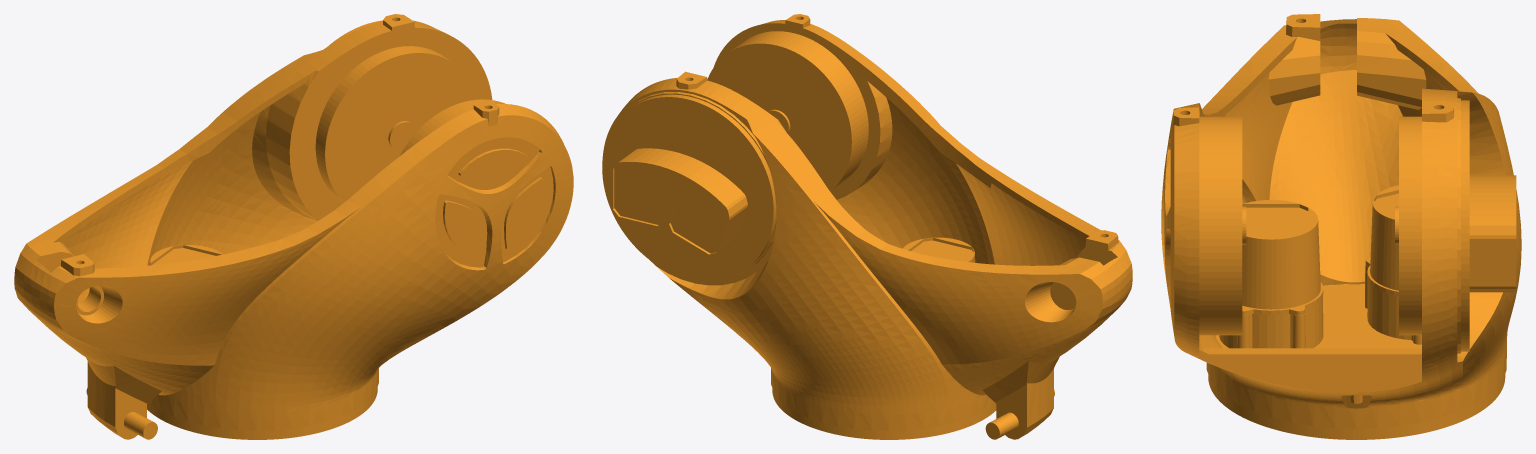
The model's file is KukaTitanLink1.dae.
3 renders of one model, left to right at view 1: azimuth 30°, elevation 25°; view 2: azimuth 150°, elevation 25°; view 3: azimuth 270°, elevation 25°, orthographic. The views are drawn at different scales.
Visible parts, largest first — view 1: KUKATitanLink1; view 2: KUKATitanLink1; view 3: KUKATitanLink1.
Boxes of the visible parts, x1=… form: KUKATitanLink1: x1=14, y1=14, x2=573, y2=439; KUKATitanLink1: x1=602, y1=14, x2=1132, y2=439; KUKATitanLink1: x1=1161, y1=14, x2=1521, y2=439.
Bounding box in the file's own units: 1.84 × 0.9396 × 1.1.
